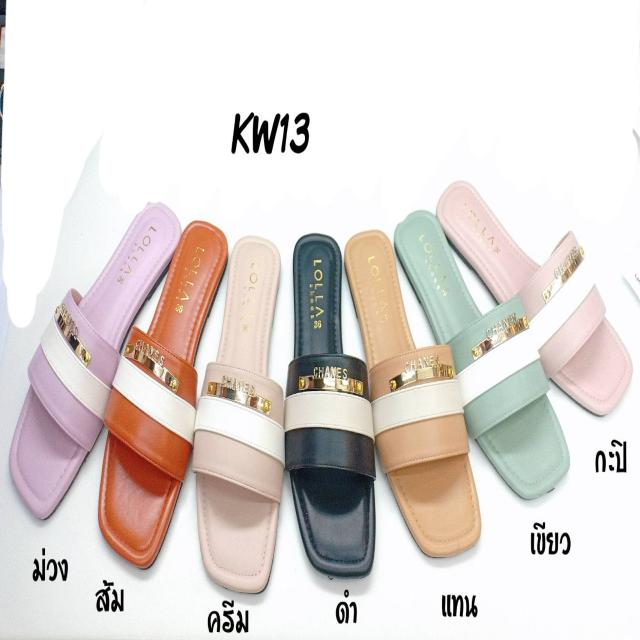black: (282, 235, 374, 581)
cream: (200, 238, 284, 588)
green: (392, 206, 573, 501)
kapi: (439, 177, 629, 416)
orange: (96, 219, 227, 562)
purple: (14, 199, 181, 514)
tan: (344, 232, 481, 558)
